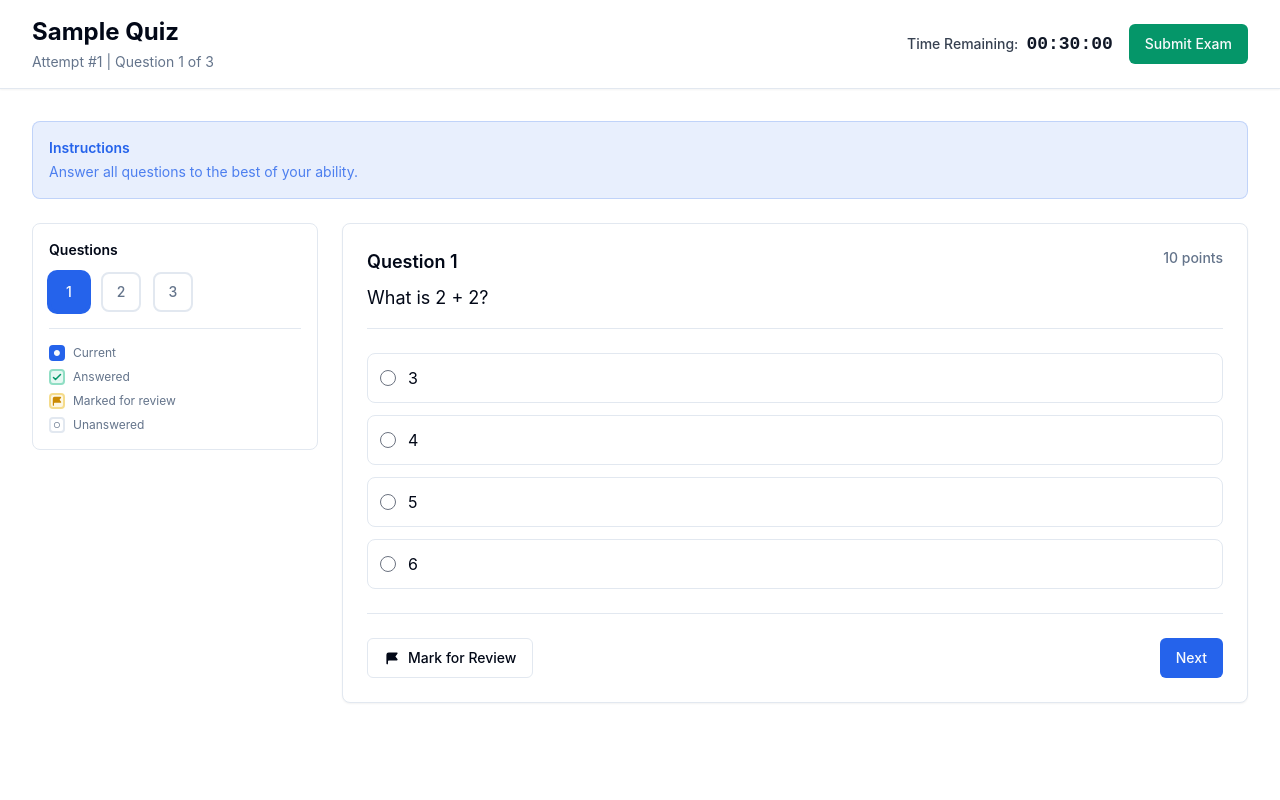
ExerciseTakingPage › Question Navigator › should jump to question when number is clicked
Click the button named "question 3" at (173, 292), box x1=153 y1=272 x2=193 y2=312
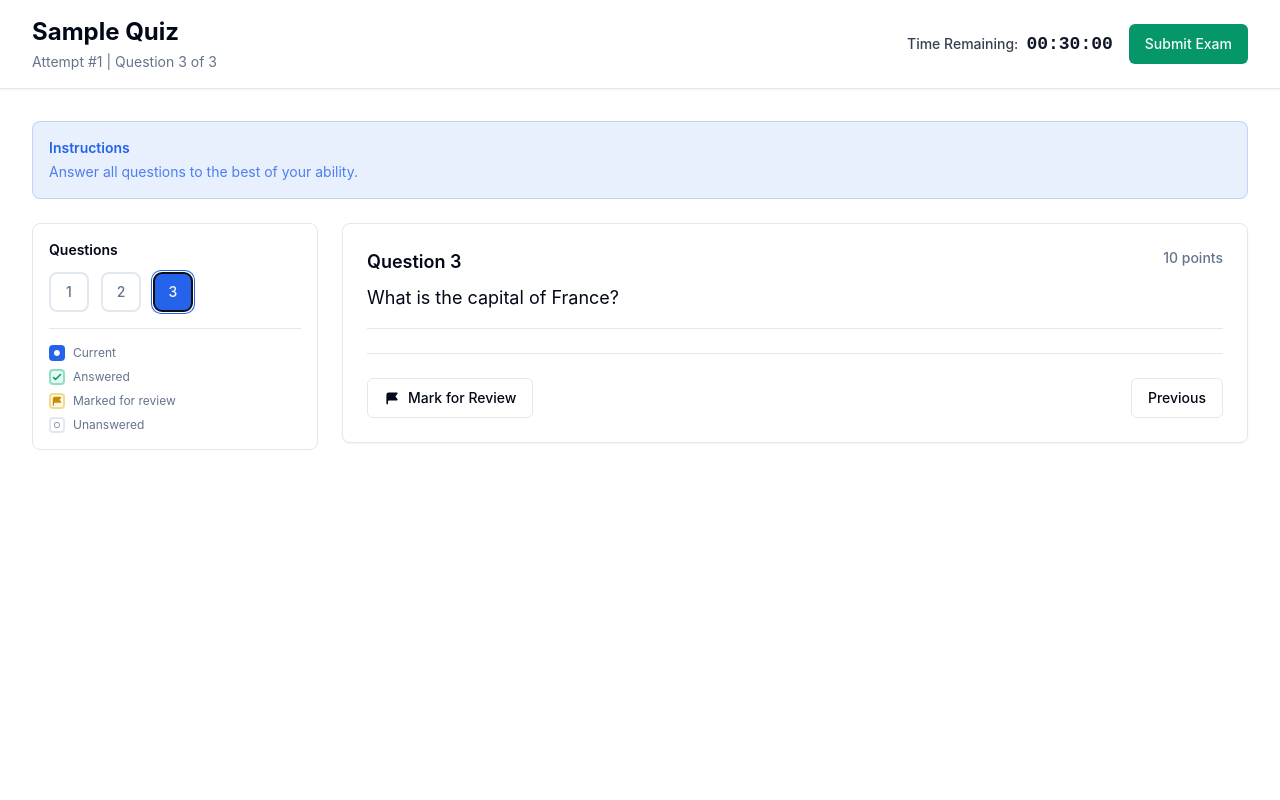
Check: the text "What is the capital of France?" is shown, box x1=367 y1=287 x2=619 y2=308
